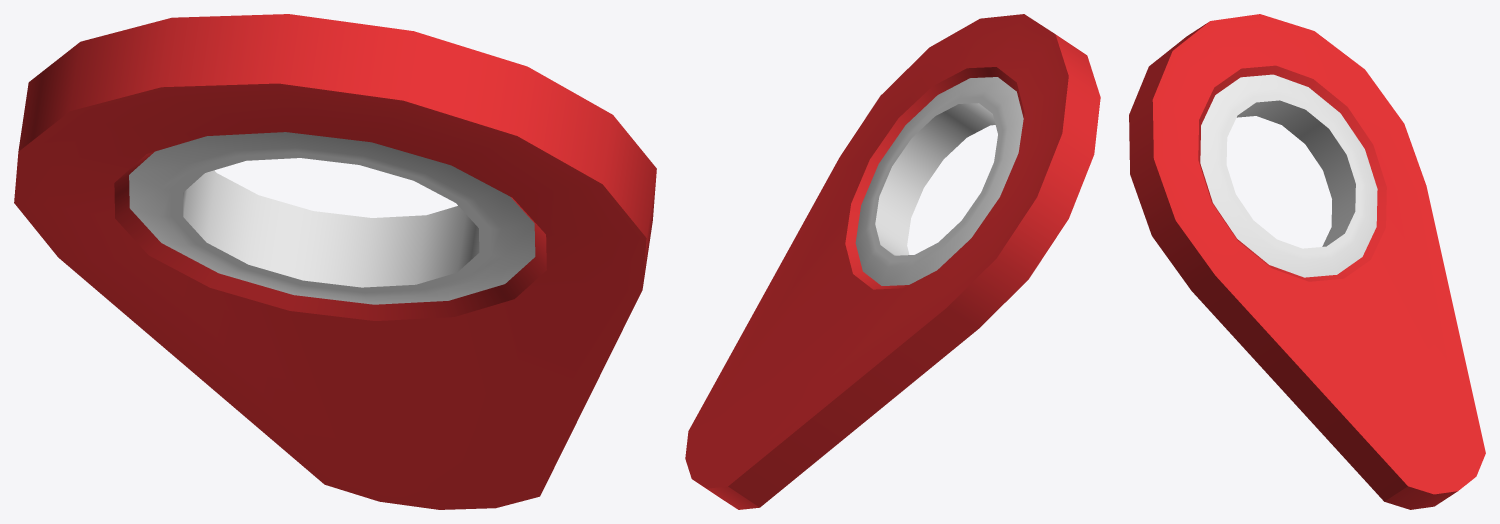
The model's file is Pin_2.glb.
3 views of the same model, side by side, from view 1: azimuth 30°, elevation 25°; view 2: azimuth 150°, elevation 25°; view 3: azimuth 270°, elevation 25° (orthographic). The views are drawn at different scales.
Parts seen in each view (by area): view 1: Pin_2; view 2: Pin_2; view 3: Pin_2.
Boxes of the visible parts, x1,y1,x2,y2 form: Pin_2: [14, 14, 656, 509]; Pin_2: [685, 14, 1100, 509]; Pin_2: [1129, 14, 1485, 509].
Bounding box in the file's own units: 0.2733 × 0.3245 × 0.2678.
